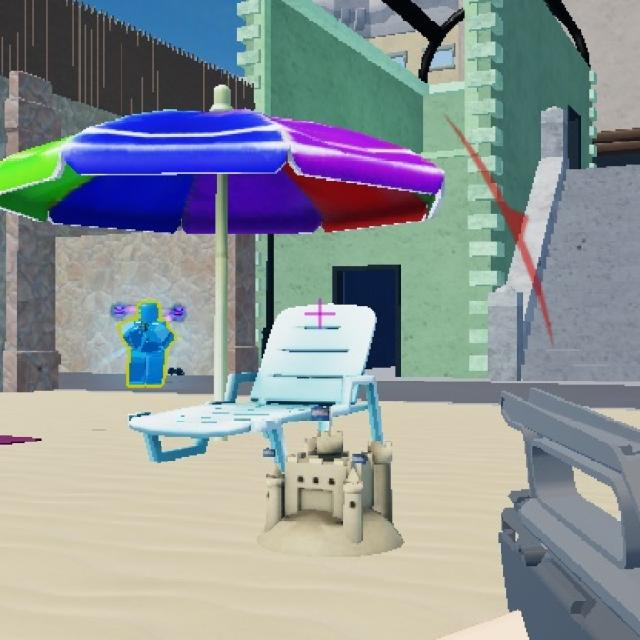player: (126, 300, 172, 389)
